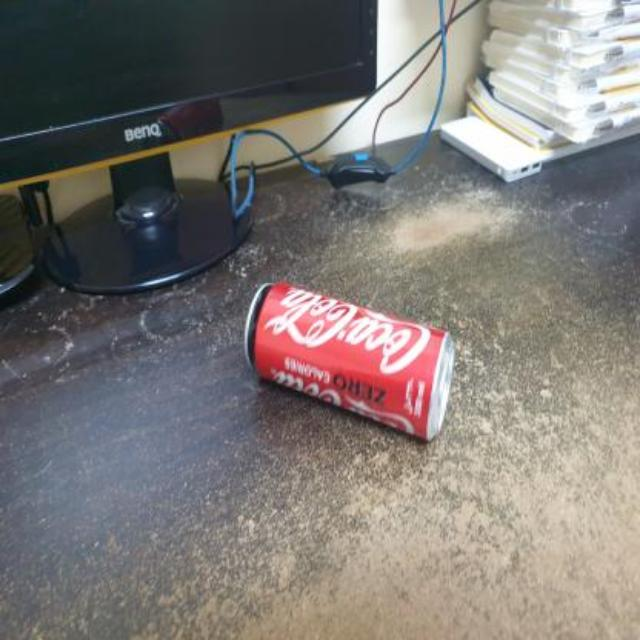metal: (245, 283, 454, 440)
